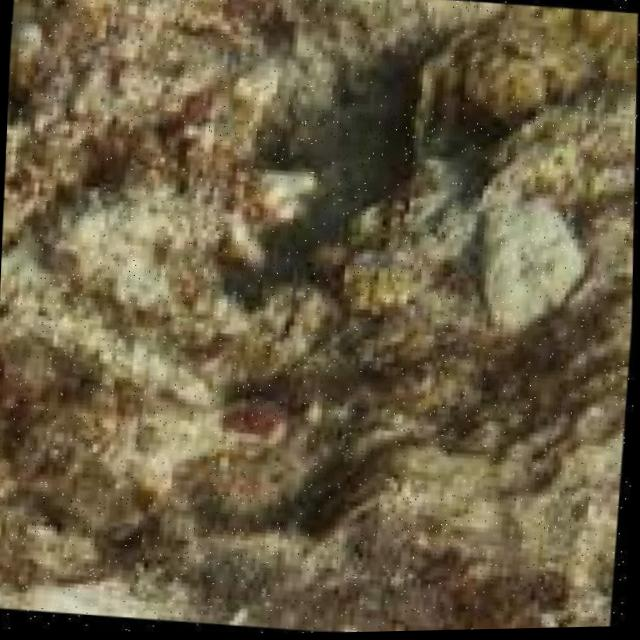Dead Coral: (4, 0, 255, 187), (0, 335, 153, 592)
